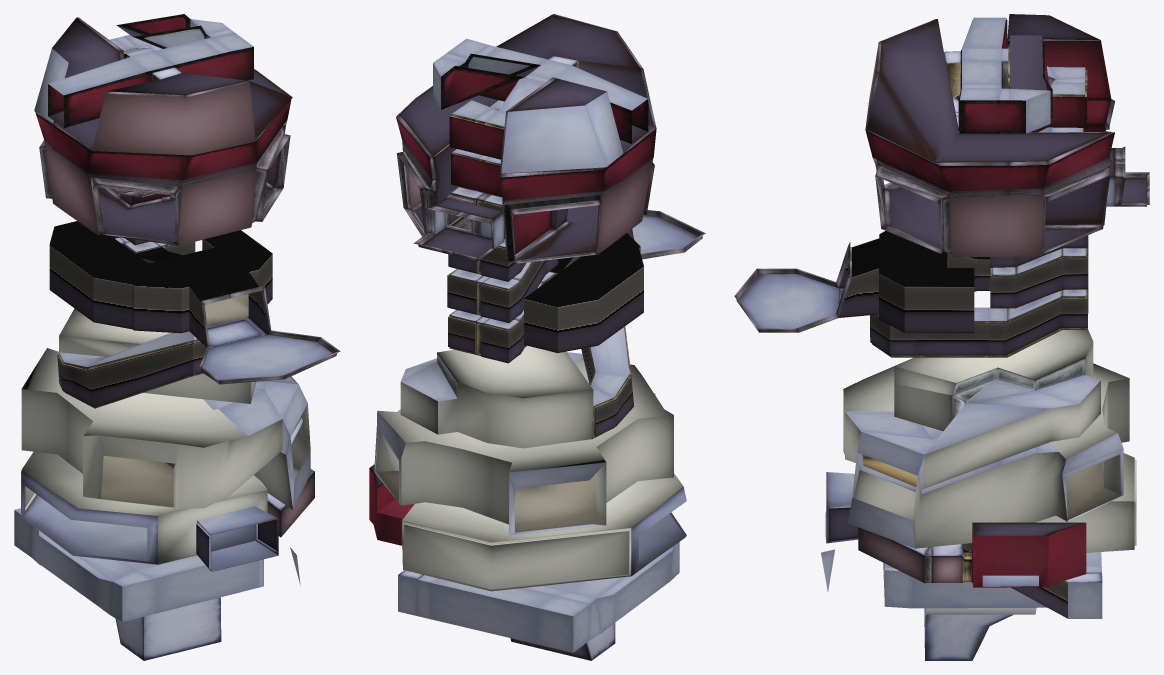
File: octagonal_tower_100m_body_inside.DAE
3 views of the same model, side by side, from view 1: azimuth 30°, elevation 25°; view 2: azimuth 150°, elevation 25°; view 3: azimuth 270°, elevation 25° (orthographic). The views are drawn at different scales.
Visible parts, largest first — view 1: VisualInteior; view 2: VisualInteior; view 3: VisualInteior.
Part boxes in pixels (x1,y1,x2,y2): VisualInteior: (14,14,340,660); VisualInteior: (369,14,705,660); VisualInteior: (734,14,1149,660).
Bounding box in the file's own units: 51.61 × 114 × 71.41.
